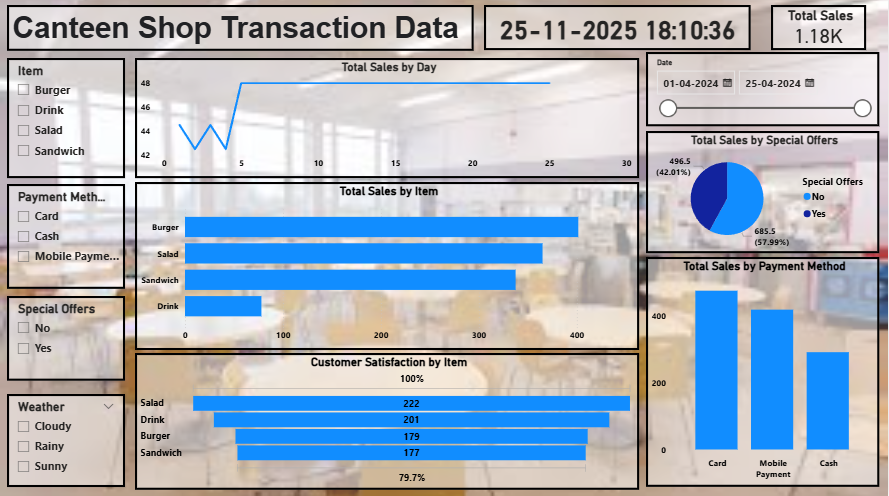

The dashboard page shown, as its layout file describes it:
{"tool":"powerbi","page":{"name":"Page 1","canvas":[1280,720],"ordinal":0},"visuals":[{"type":"textbox","box":[10.1,13.4,671.9,65.5],"z":0},{"type":"card","fields":{"Values":["canteen_shop_data.Today"]},"box":[697,13,384.5,64.8],"z":1},{"type":"card","title":"Total Sales","fields":{"Values":["Sum(canteen_shop_data.Total)"]},"box":[1110.2,13,136.8,64.8],"z":2},{"type":"slicer","fields":{"Values":["canteen_shop_data.Date"]},"box":[930.2,80.6,335.5,106.6],"z":3},{"type":"slicer","fields":{"Values":["canteen_shop_data.Item"]},"box":[10.1,89.3,169.9,172.8],"z":4},{"type":"slicer","fields":{"Values":["canteen_shop_data.Payment Method"]},"box":[10.1,270.7,169.9,151.2],"z":5},{"type":"slicer","fields":{"Values":["canteen_shop_data.Weather"]},"box":[10.1,573.1,169.9,133.9],"z":6},{"type":"slicer","fields":{"Values":["canteen_shop_data.Special Offers"]},"box":[10.1,432,169.9,122.4],"z":7},{"type":"lineChart","title":"Total Sales by Day","fields":{"Y":["Sum(canteen_shop_data.Total)"],"Category":["canteen_shop_data.Date.Variation.Date Hierarchy.Month","canteen_shop_data.Date.Variation.Date Hierarchy.Day"]},"box":[194.4,89.3,725.8,172.8],"z":8},{"type":"clusteredBarChart","title":"Total Sales by Item","fields":{"Category":["canteen_shop_data.Item"],"Y":["Sum(canteen_shop_data.Total)"]},"box":[194.4,267.8,725.8,241.9],"z":9},{"type":"pieChart","title":"Total Sales by Special Offers","fields":{"Category":["canteen_shop_data.Special Offers"],"Y":["Sum(canteen_shop_data.Total)"]},"box":[930.2,194.4,335.5,175.7],"z":10},{"type":"clusteredColumnChart","title":"Total Sales by Payment Method","fields":{"Category":["canteen_shop_data.Payment Method"],"Y":["Sum(canteen_shop_data.Total)"]},"box":[930.2,375.8,335.5,331.2],"z":11},{"type":"funnel","title":"Customer Satisfaction by Item","fields":{"Y":["Sum(canteen_shop_data.Customer Satisfaction)"],"Category":["canteen_shop_data.Item"]},"box":[194.4,514.1,725.8,197.3],"z":12}]}

Visuals, with their boxes in screenshot pixels (x1, y1, x2, y2), scaled from the page's 1280x720 canvas onto the 889x496 screenshot:
textbox: pyautogui.locateOnScreen(7, 9, 474, 54)
card - canteen_shop_data.Today: pyautogui.locateOnScreen(484, 9, 751, 54)
"Total Sales" card: pyautogui.locateOnScreen(771, 9, 866, 54)
slicer - canteen_shop_data.Date: pyautogui.locateOnScreen(646, 56, 879, 129)
slicer - canteen_shop_data.Item: pyautogui.locateOnScreen(7, 62, 125, 181)
slicer - canteen_shop_data.Payment Method: pyautogui.locateOnScreen(7, 186, 125, 291)
slicer - canteen_shop_data.Weather: pyautogui.locateOnScreen(7, 395, 125, 487)
slicer - canteen_shop_data.Special Offers: pyautogui.locateOnScreen(7, 298, 125, 382)
"Total Sales by Day" lineChart: pyautogui.locateOnScreen(135, 62, 639, 181)
"Total Sales by Item" clusteredBarChart: pyautogui.locateOnScreen(135, 184, 639, 351)
"Total Sales by Special Offers" pieChart: pyautogui.locateOnScreen(646, 134, 879, 255)
"Total Sales by Payment Method" clusteredColumnChart: pyautogui.locateOnScreen(646, 259, 879, 487)
"Customer Satisfaction by Item" funnel: pyautogui.locateOnScreen(135, 354, 639, 490)
